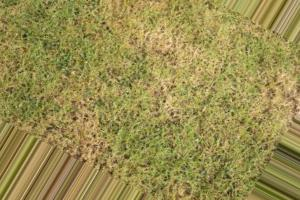patch: (128, 26, 201, 67), (13, 42, 70, 94), (158, 83, 204, 133), (50, 109, 105, 146), (238, 79, 279, 124), (123, 152, 162, 181), (95, 74, 131, 94), (73, 79, 92, 106), (94, 18, 121, 32), (138, 80, 157, 97), (169, 69, 198, 79), (209, 53, 221, 77), (89, 154, 113, 164), (174, 183, 192, 195)
